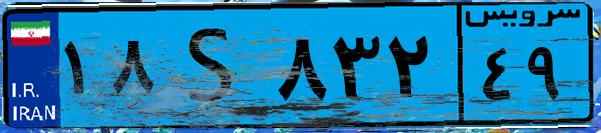1: (57, 26, 110, 100)
2: (385, 28, 445, 110)
3: (330, 28, 385, 110)
4: (475, 38, 525, 113)
8: (270, 28, 330, 110), (110, 28, 158, 98)
9: (525, 38, 570, 115)
S: (158, 12, 270, 120)
